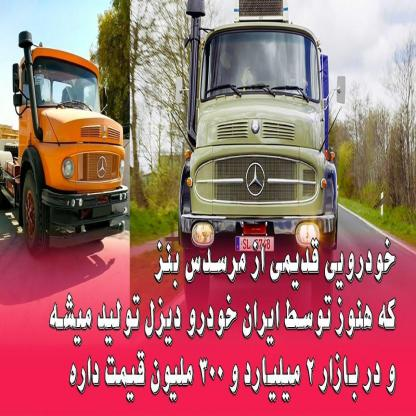Truck: (186, 8, 336, 277), (0, 47, 124, 239)
